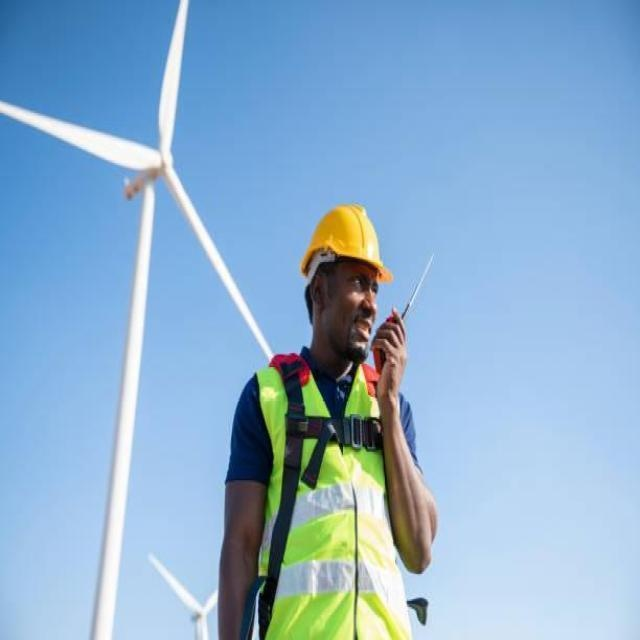Arnes_seguridad: (258, 350, 402, 640)
